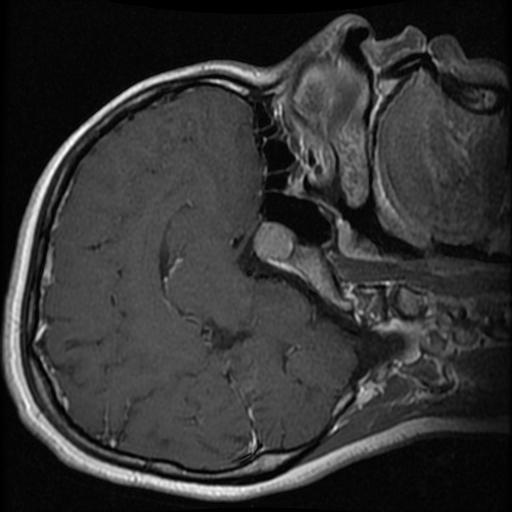pituitary tumour: (253, 221, 294, 262)
